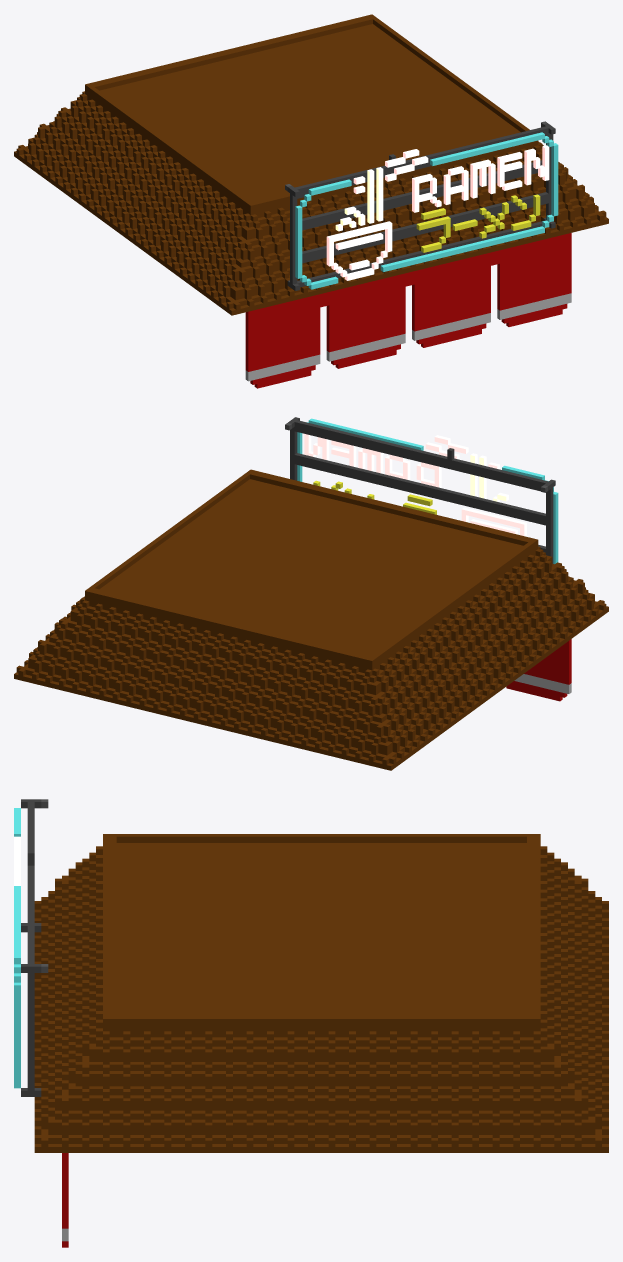
Rendered from ramen.glb.
3 views of the same model, one above another, from view 1: azimuth 30°, elevation 25°; view 2: azimuth 150°, elevation 25°; view 3: azimuth 270°, elevation 25° (orthographic). The views are drawn at different scales.
Parts seen in each view (by area): view 1: ObjObject; view 2: ObjObject; view 3: ObjObject.
Part boxes in pixels (x1,y1,x2,y2): ObjObject: [14, 14, 608, 388]; ObjObject: [14, 417, 608, 770]; ObjObject: [14, 799, 608, 1247].
Size of the model in its own units: 8.4 by 4.6 by 8.7.
Materials: 3 (1 with a texture image).
